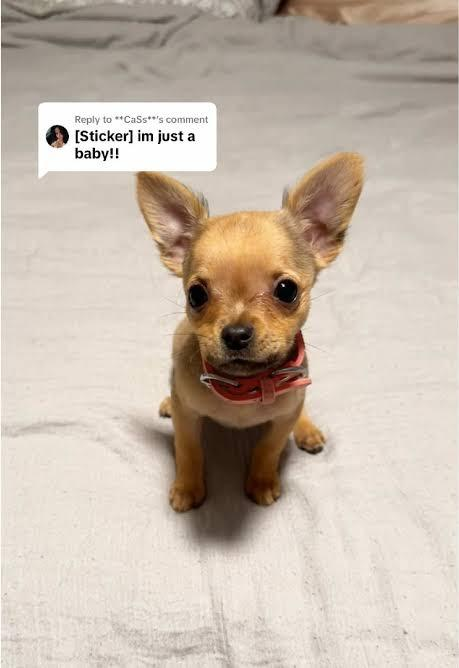puppy-dog: (134, 151, 365, 513)
